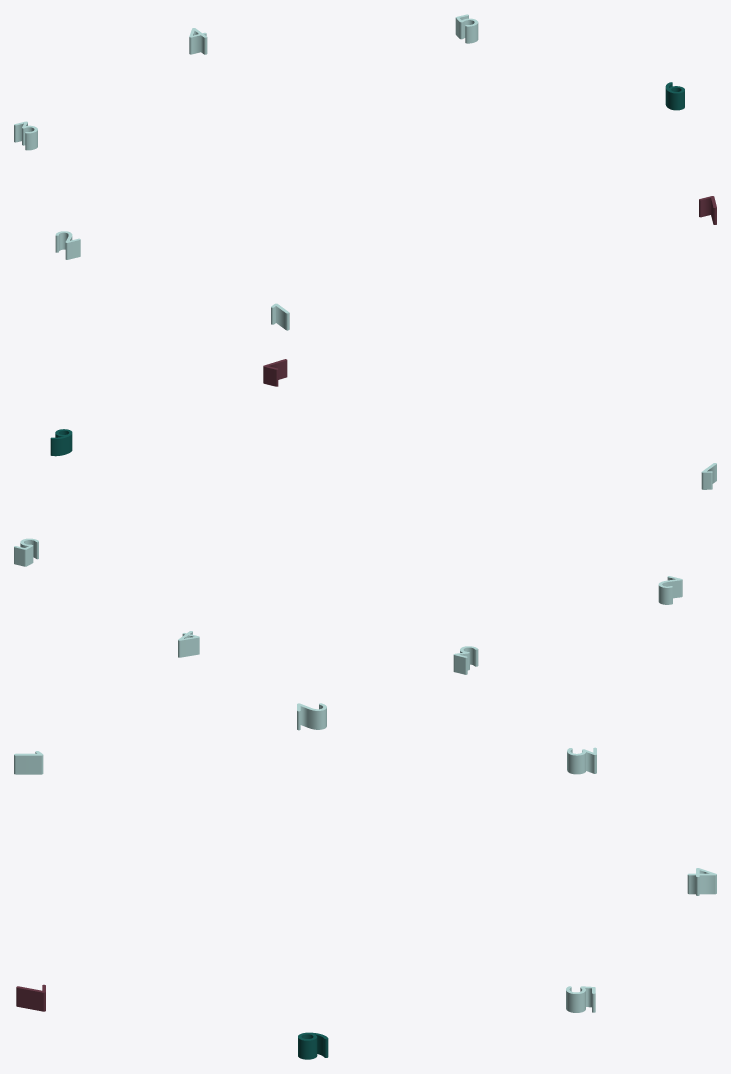
File: Numbers.20646b4f.glb
3 renders of one model, top to bottom at view 1: azimuth 30°, elevation 25°; view 2: azimuth 150°, elevation 25°; view 3: azimuth 270°, elevation 25°, orthographic. The views are drawn at different scales.
Parts seen in each view (by area): view 1: 5, 2, 3; view 2: 5, 3, 2, 6, 7; view 3: 6, 4, 5, 2, 3, 1, 7.
Boxes of the visible parts, x1,y1,x2,y2 form: 5: [455, 14, 478, 43]; 2: [55, 231, 80, 259]; 3: [14, 121, 37, 150]; 5: [14, 538, 38, 566]; 3: [453, 646, 478, 674]; 2: [658, 576, 682, 604]; 6: [50, 429, 72, 456]; 7: [263, 359, 287, 386]; 6: [298, 1032, 328, 1059]; 4: [687, 868, 716, 895]; 5: [566, 986, 595, 1012]; 2: [297, 703, 326, 730]; 3: [567, 747, 596, 774]; 1: [14, 751, 43, 774]; 7: [16, 984, 45, 1011].
Bounding box in the file's own units: 3.06 × 0.08 × 2.69.
